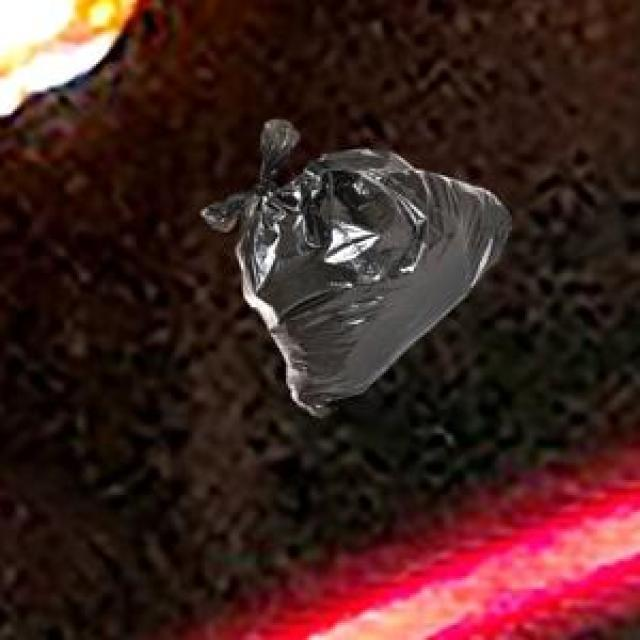miscellaneous trash: (196, 115, 508, 414)
